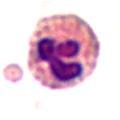eosi: (26, 11, 101, 92)
